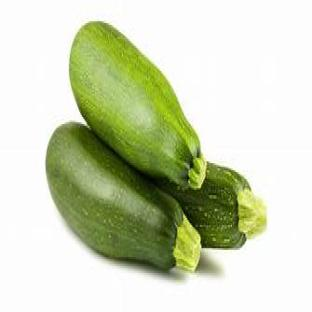Zucchini: (46, 123, 201, 271), (70, 22, 205, 189), (158, 164, 266, 248)
